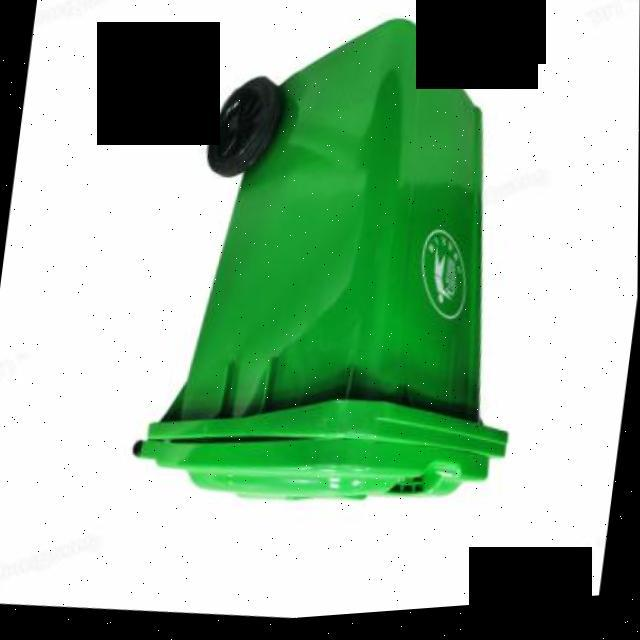bin: (93, 0, 578, 569)
